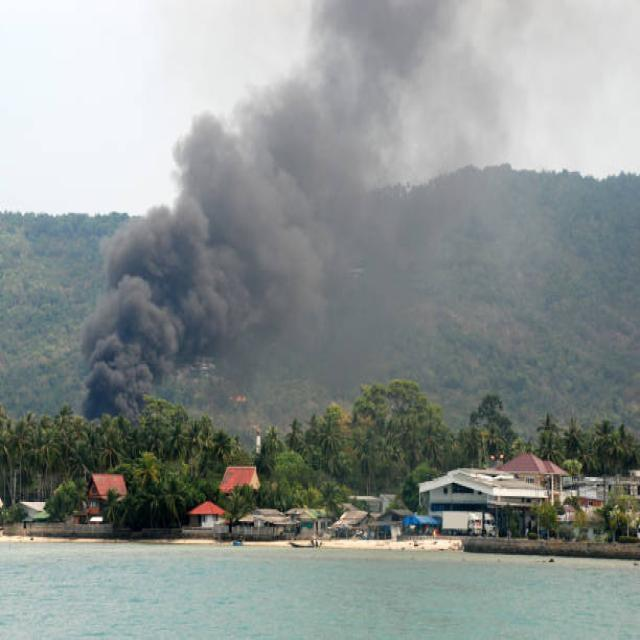Smoke: (74, 0, 406, 426)
